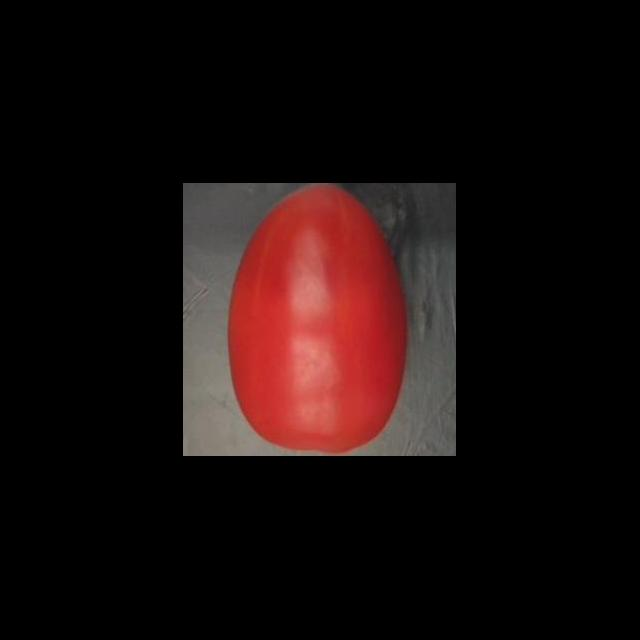tomato: (215, 184, 422, 456)
